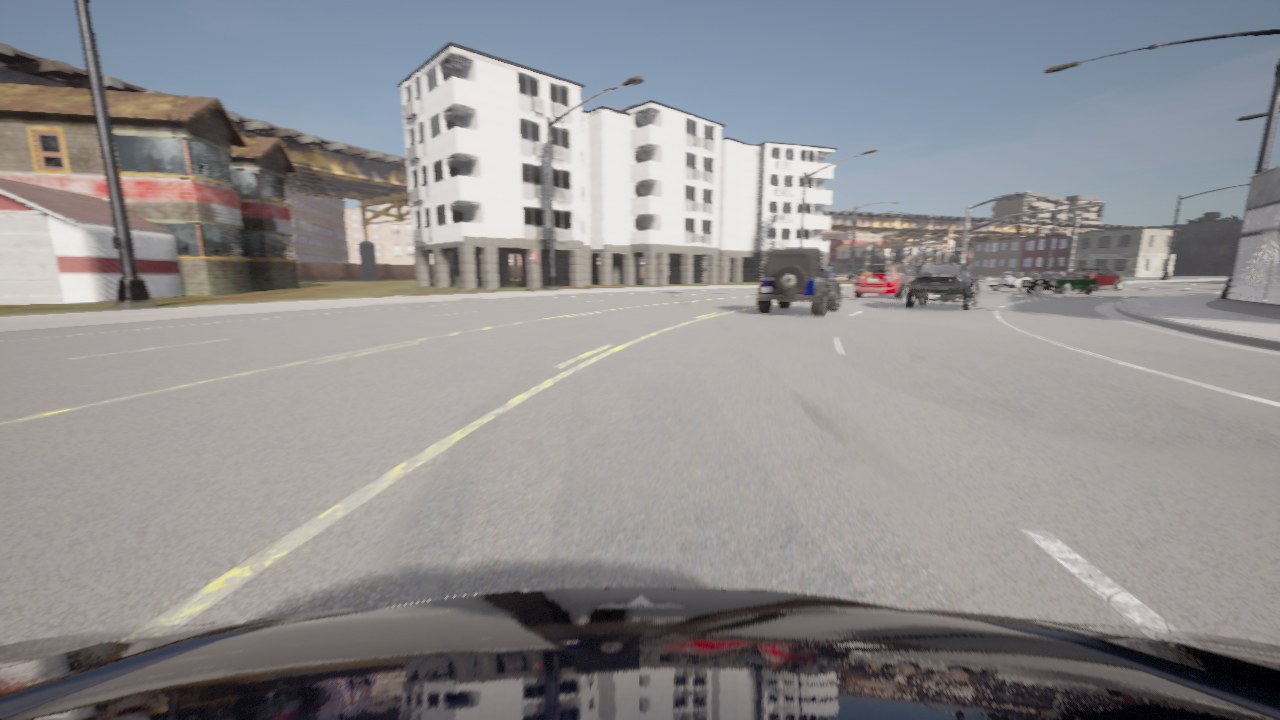cyclist: (0, 588, 1279, 719), (756, 248, 840, 315), (905, 264, 984, 311), (853, 263, 915, 299), (1020, 272, 1097, 295), (1073, 268, 1122, 290), (985, 272, 1036, 292), (829, 272, 842, 276), (844, 272, 853, 277)
